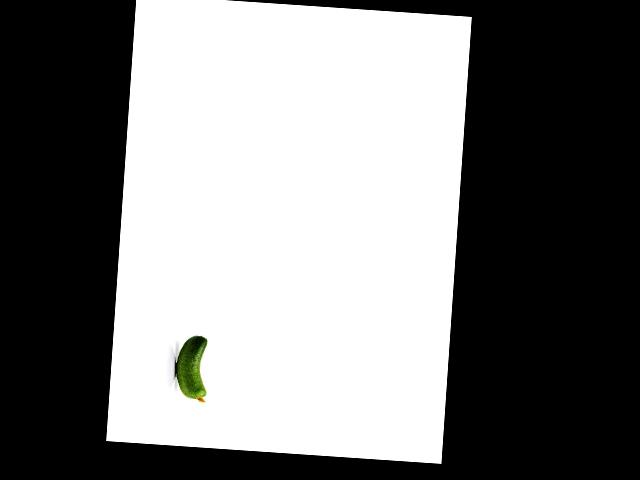cucumber: (173, 333, 210, 402)
